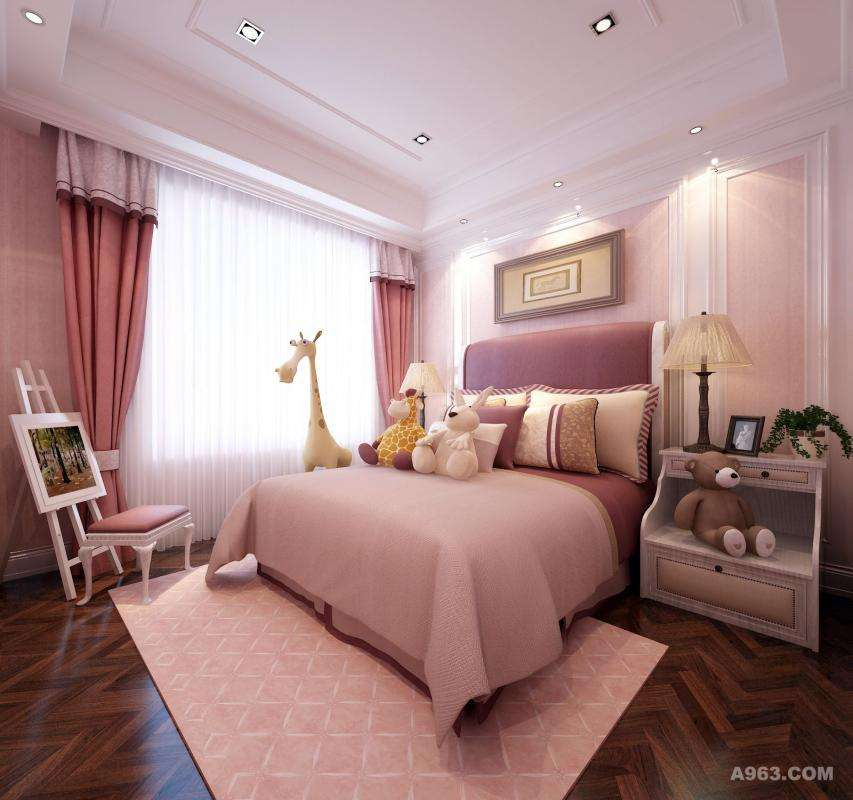床: (248, 446, 649, 692)
枕头: (376, 376, 657, 480)
灯: (665, 306, 760, 460), (397, 357, 455, 431), (590, 15, 625, 40), (236, 20, 267, 47), (20, 10, 52, 31), (410, 131, 437, 151), (683, 124, 708, 144), (545, 175, 571, 193)
